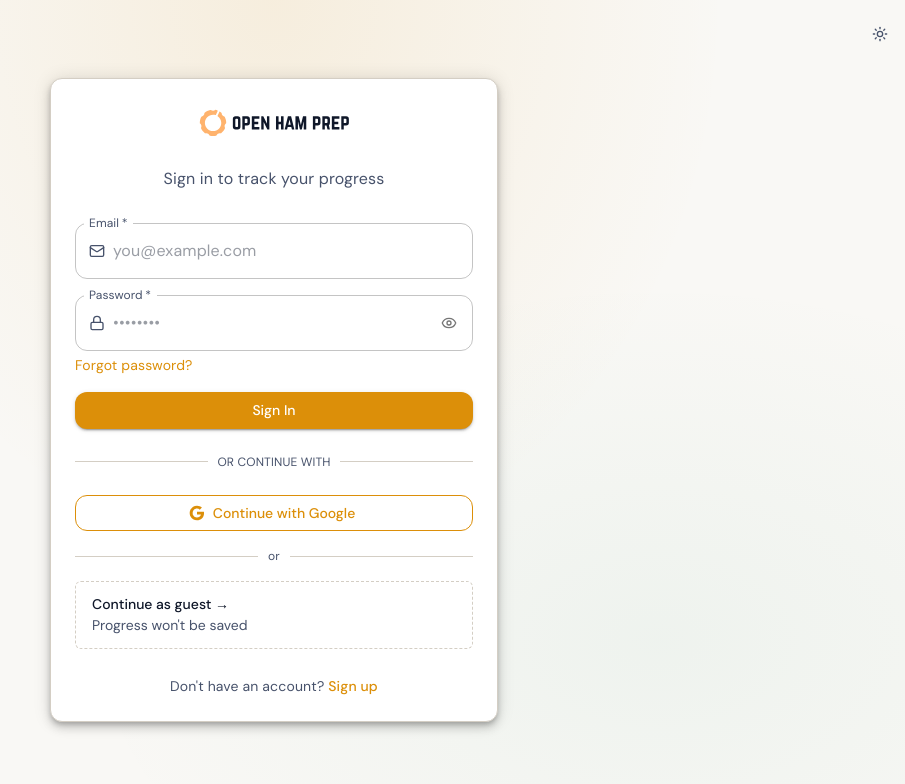
it: Auth › sign in › rewrites a credentials failure into something readable
The width and height of the screenshot is (905, 784).
Type "ham@example.com" into the field labelled "Email".
click(293, 251); type("ham@example.com")  # box [113,223,473,279]
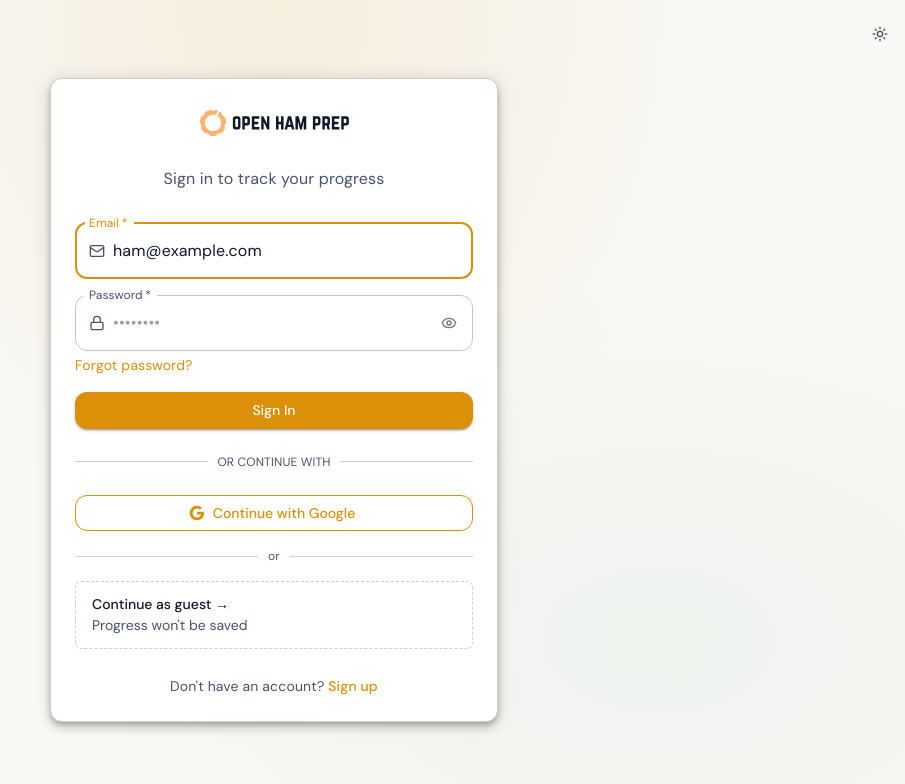
Type "wrongpass" into the password field labelled "Password *".
click(270, 323); type("wrongpass")  # box [113,295,428,351]
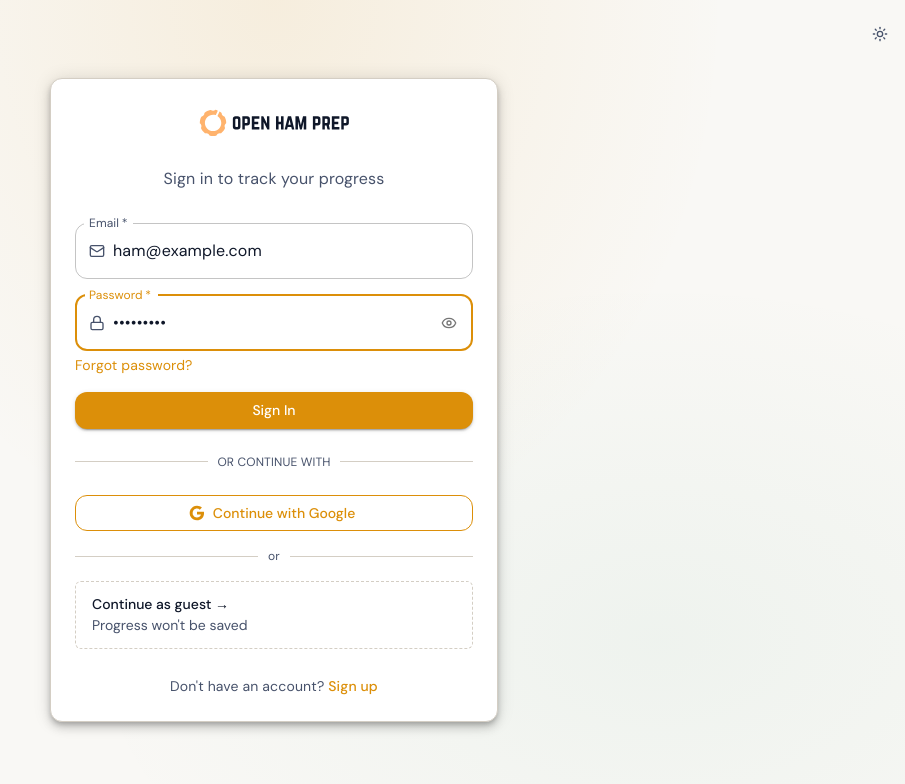
Click the button "Sign In".
click(274, 410)  # box [75,392,473,429]
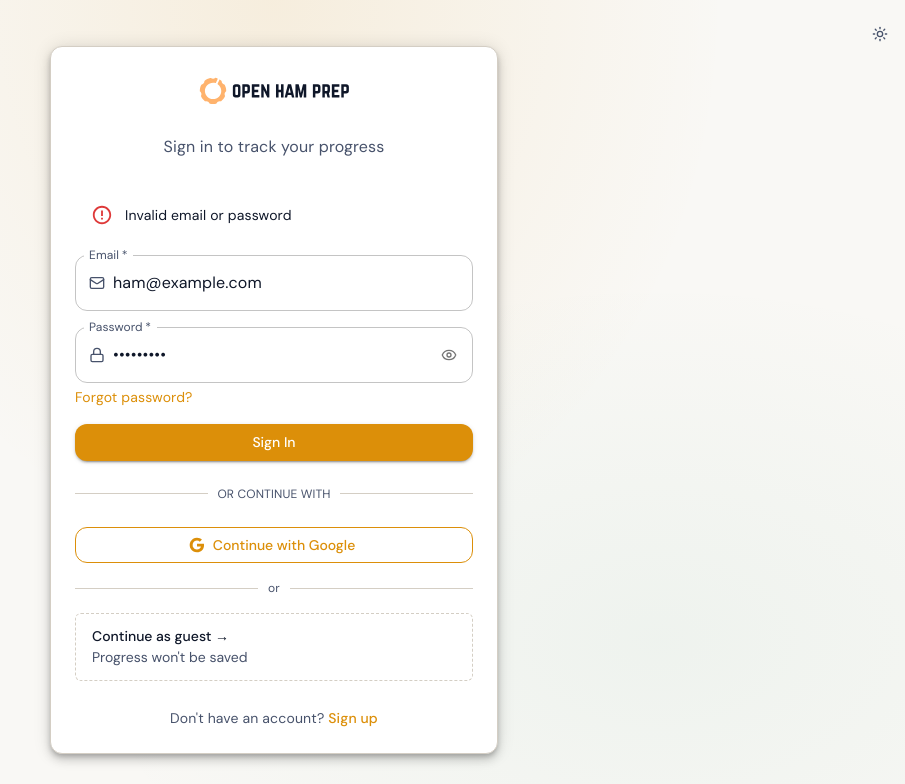
Now the text "Invalid email or password" is shown, box [125,206,292,224]
